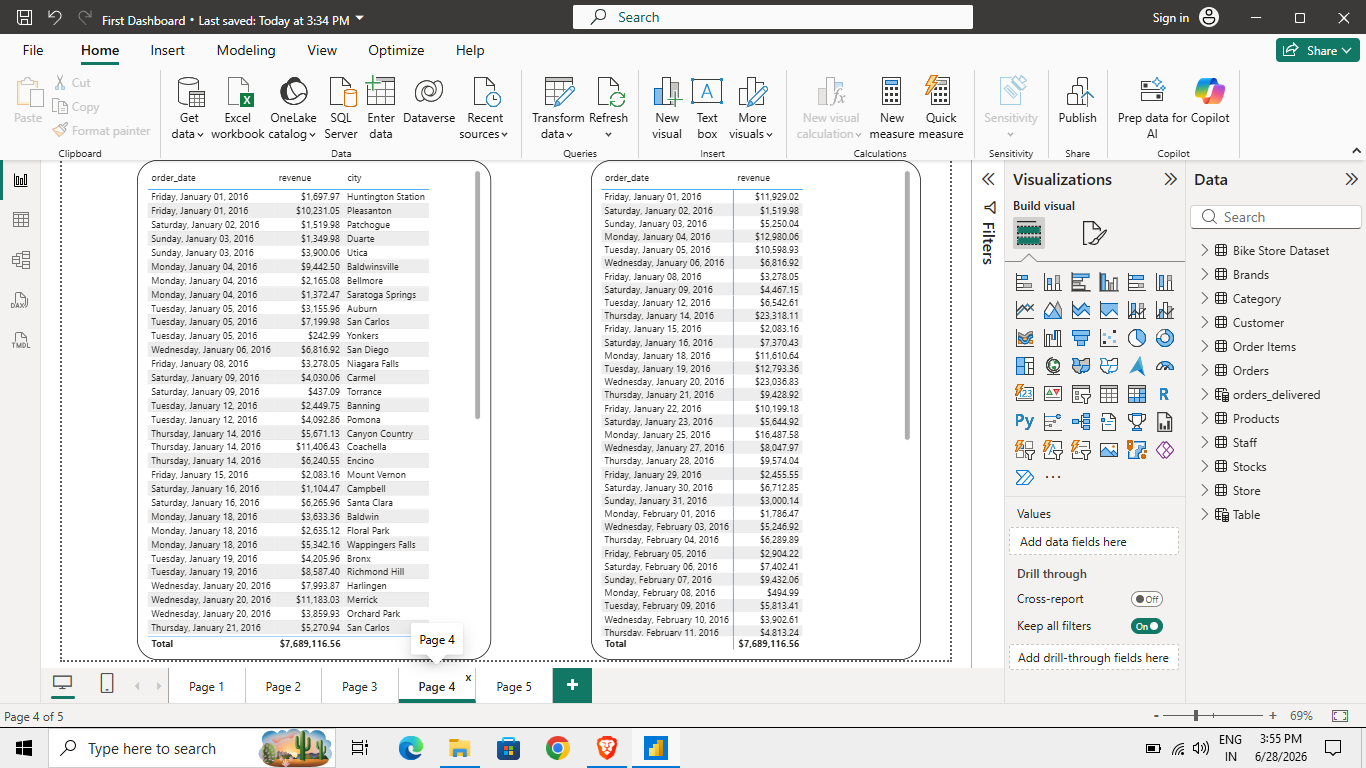

What the dashboard file says about the page in this screenshot:
{"tool":"powerbi","page":{"name":"Page 4","canvas":[1280,720],"ordinal":3},"visuals":[{"type":"tableEx","fields":{"Values":["Orders.order_date","Table.revenue","Customer.city"]},"box":[108.3,0,510,720],"z":0},{"type":"pivotTable","fields":{"Rows":["Orders.order_date"],"Values":["Table.revenue"]},"box":[761.7,0,475,720],"z":1000}]}

Visuals, with their boxes on the page's 1280x720 design canvas (x1, y1, x2, y2). These are canvas units, not pixel positions in the 1366x768 screenshot, which may show the page scaled, cropped or inside an application window:
tableEx - Orders.order_date x Table.revenue: 108 0 618 720
pivotTable - Orders.order_date x Table.revenue: 762 0 1237 720
